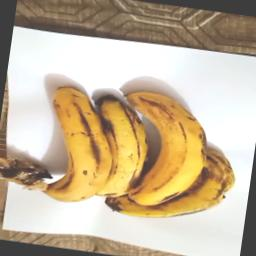Banana Unripe: (75, 74, 250, 232), (16, 72, 129, 204)
